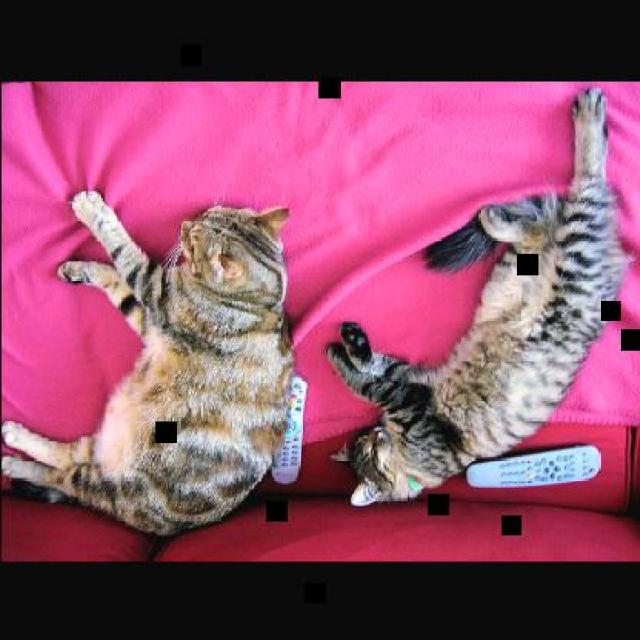unauthorized: (324, 85, 630, 508), (0, 188, 295, 537)
